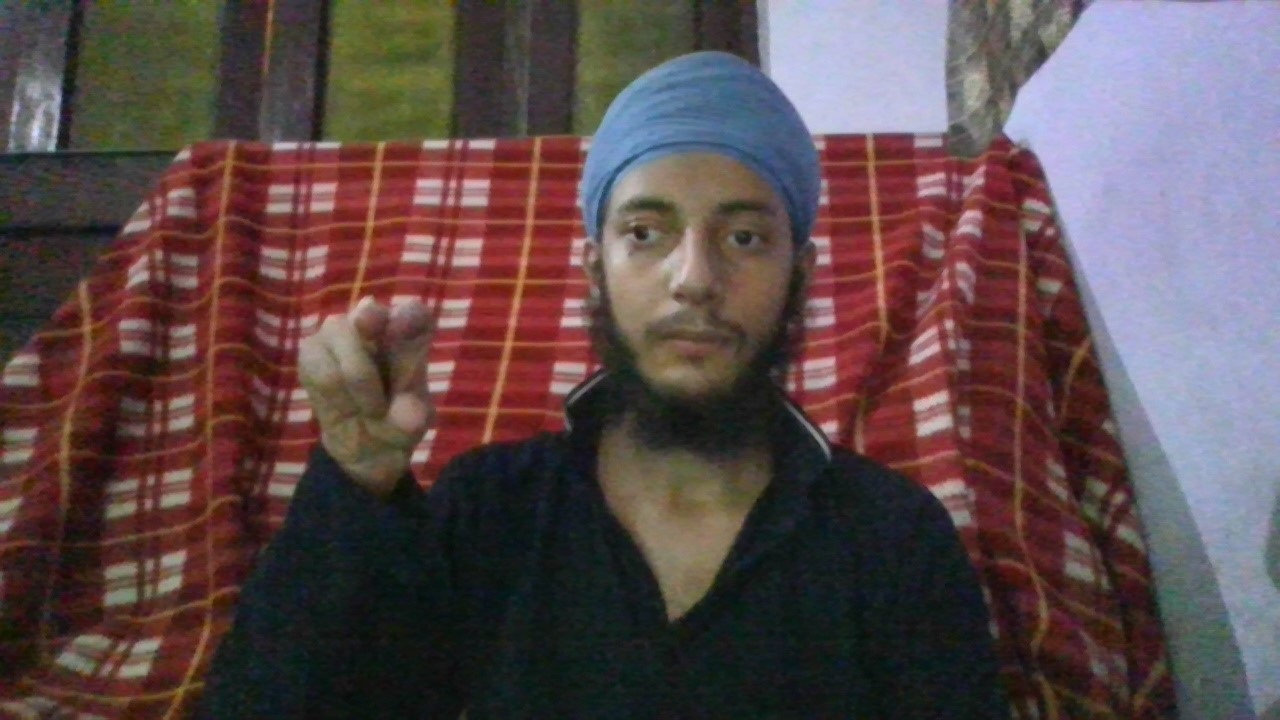No: (293, 296, 437, 458)
